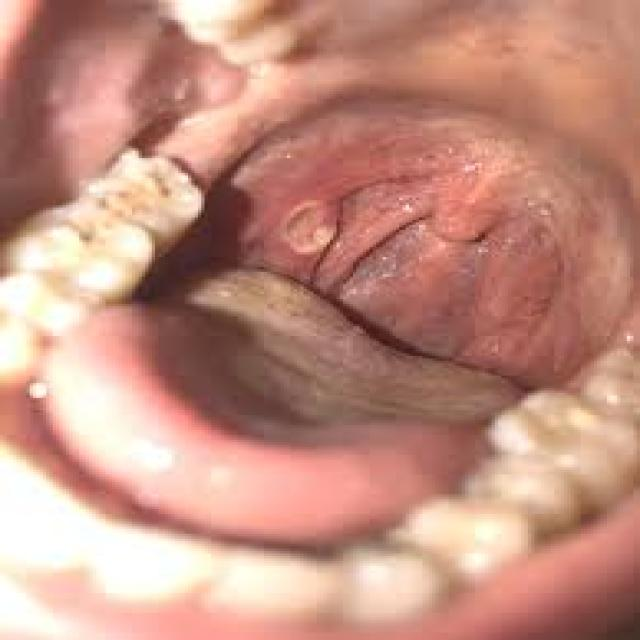processing_area: (54, 0, 637, 512)
ulcer-detection: (249, 161, 383, 292)
